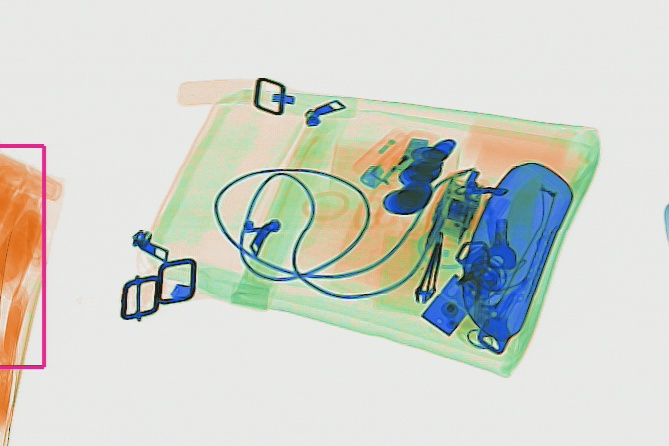lighter: (355, 126, 436, 190)
